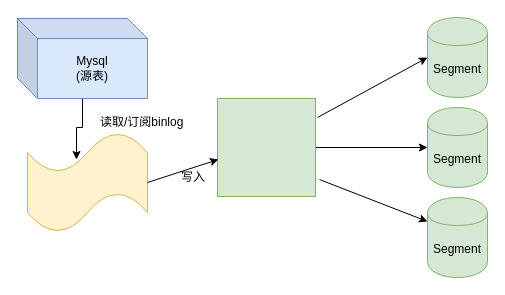
The diagram is 505 pixels wide and 295 high, and some of its shapes have lost their labels. Each missing label, with the centre of its shape:
"Master (目标表)" goes at (266,147).
"全量/增量同步工具" goes at (87,182).
